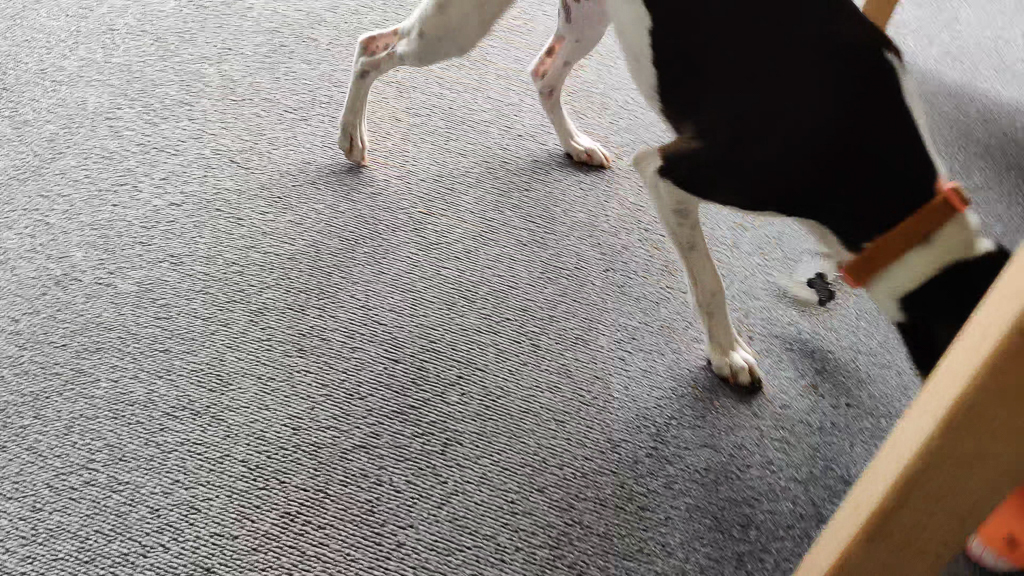Dog: (327, 0, 1015, 425)
